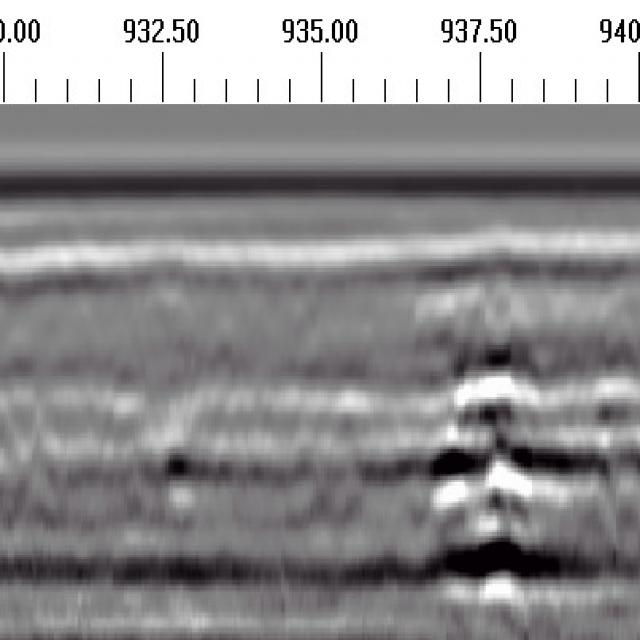loose: (430, 342, 631, 510)
